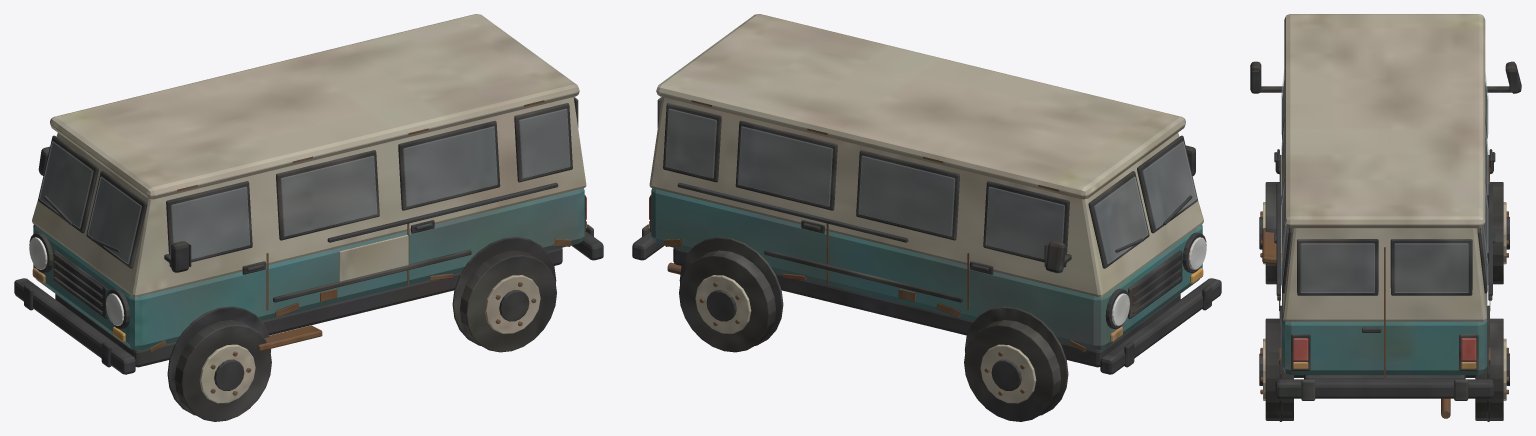
The model's file is V11_old_school_van.glb.
3 renders of one model, left to right at view 1: azimuth 30°, elevation 25°; view 2: azimuth 150°, elevation 25°; view 3: azimuth 270°, elevation 25°, orthographic.
Parts seen in each view (by area): view 1: Underframe; view 2: Underframe; view 3: Underframe.
Part boxes in pixels (x1,y1,x2,y2): Underframe: [14, 14, 603, 421]; Underframe: [632, 14, 1221, 421]; Underframe: [1250, 14, 1521, 421].
Size of the model in its own units: 5 by 2.36 by 2.46.
9 materials, 8 textured.
